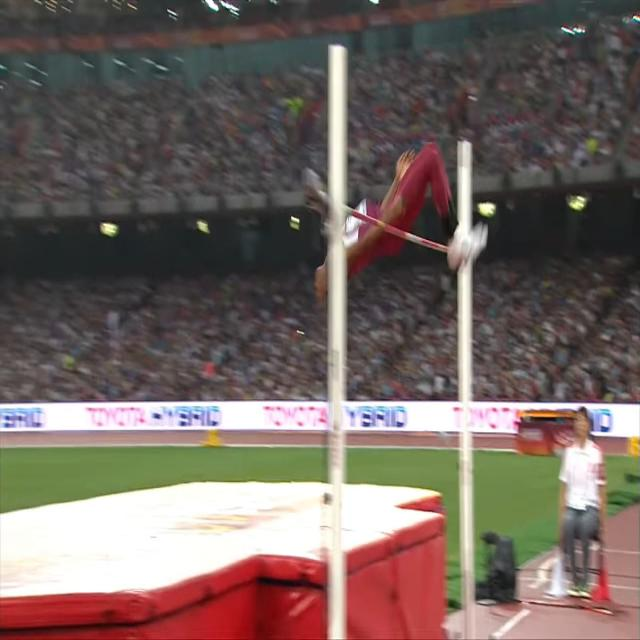jump: (314, 143, 488, 304)
